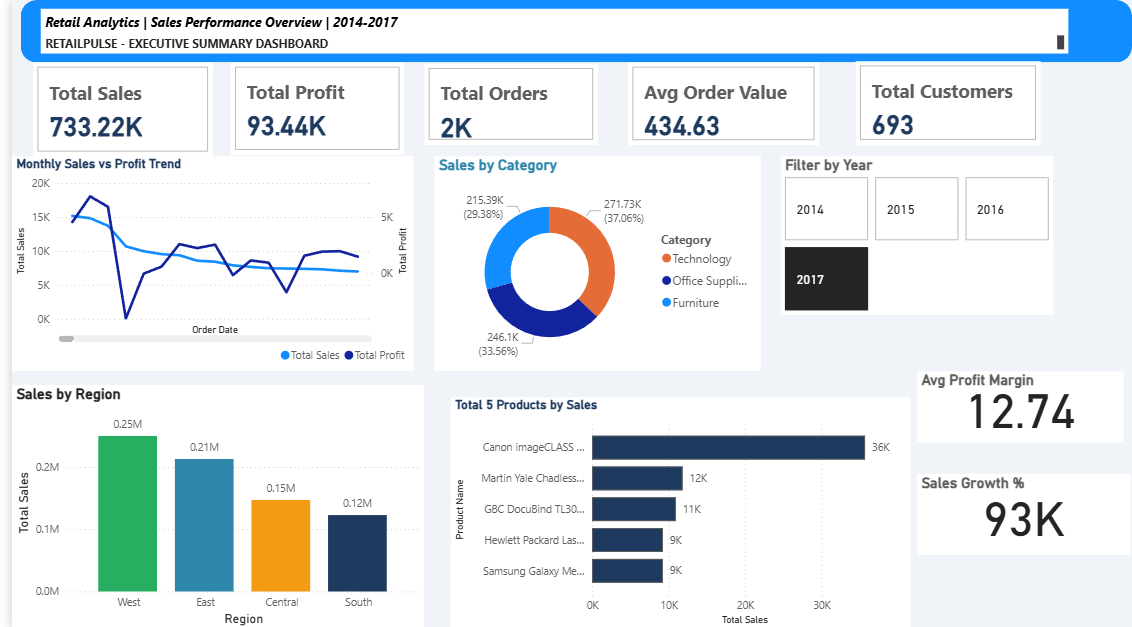

Layout of this report page (visuals, bound fields, positions):
{"tool":"powerbi","page":{"name":"Executive Summary","canvas":[1280,720],"ordinal":0},"visuals":[{"type":"shape","box":[10,0,1270,71.4],"z":0},{"type":"textbox","box":[32.9,10,1174.3,51.4],"z":1000},{"type":"cardVisual","fields":{"Data":["Sales Measures.Total Sales"]},"box":[24.3,71.4,205.7,107.1],"z":2000},{"type":"cardVisual","fields":{"Data":["Sales Measures.Total Profit"]},"box":[250,71.4,198.6,105.7],"z":3000},{"type":"cardVisual","fields":{"Data":["Sales Measures.Total Orders"]},"box":[471.4,72.9,198.6,92.9],"z":4000},{"type":"cardVisual","fields":{"Data":["Sales Measures.Total Customers"]},"box":[964.3,70,211.4,95.7],"z":5000},{"type":"cardVisual","fields":{"Data":["Sales Measures.Avg Order Value"]},"box":[704.3,71.4,218.6,94.3],"z":6000},{"type":"lineChart","title":"Monthly Sales vs Profit Trend","fields":{"Y":["Sales Measures.Total Sales"],"Y2":["Sales Measures.Total Profit"],"Category":["Sales Measures.Order Date"]},"box":[0,178.6,458.6,245.7],"z":7000},{"type":"donutChart","title":"Sales by Category ","fields":{"Category":["Sales Measures.Category"],"Y":["Sales Measures.Total Sales"]},"box":[482.9,178.6,372.9,245.7],"z":8000},{"type":"clusteredBarChart","title":"Total 5 Products by Sales","fields":{"Category":["Sales Measures.Product Name"],"Y":["Sales Measures.Total Sales"]},"box":[501.4,454.3,525.7,265.7],"z":9000},{"type":"clusteredColumnChart","title":"Sales by Region","fields":{"Category":["Sales Measures.Region"],"Y":["Sales Measures.Total Sales"]},"box":[0,440,471.4,280],"z":10000},{"type":"card","title":"Sales Growth %","fields":{"Values":["Sales Measures.Total Profit"]},"box":[1034.3,541.4,244.3,92.9],"z":11000},{"type":"card","title":"Avg Profit Margin","fields":{"Values":["Sales Measures.Avg Profit Margin"]},"box":[1034.3,424.3,235.7,81.4],"z":12000},{"type":"advancedSlicerVisual","title":"Filter by Year","fields":{"Values":["Sales Measures.Year"]},"box":[878.6,178.6,311.4,181.4],"z":13000}]}

Visuals, with their boxes in screenshot pixels (x1, y1, x2, y2), scaled from the page's 1280x720 canvas onto the 1132x627 screenshot:
shape: pyautogui.locateOnScreen(9, 0, 1131, 62)
textbox: pyautogui.locateOnScreen(29, 9, 1068, 53)
cardVisual - Sales Measures.Total Sales: pyautogui.locateOnScreen(21, 62, 203, 155)
cardVisual - Sales Measures.Total Profit: pyautogui.locateOnScreen(221, 62, 397, 154)
cardVisual - Sales Measures.Total Orders: pyautogui.locateOnScreen(417, 63, 593, 144)
cardVisual - Sales Measures.Total Customers: pyautogui.locateOnScreen(853, 61, 1040, 144)
cardVisual - Sales Measures.Avg Order Value: pyautogui.locateOnScreen(623, 62, 816, 144)
"Monthly Sales vs Profit Trend" lineChart: pyautogui.locateOnScreen(0, 156, 406, 369)
"Sales by Category " donutChart: pyautogui.locateOnScreen(427, 156, 757, 369)
"Total 5 Products by Sales" clusteredBarChart: pyautogui.locateOnScreen(443, 396, 908, 626)
"Sales by Region" clusteredColumnChart: pyautogui.locateOnScreen(0, 383, 417, 626)
"Sales Growth %" card: pyautogui.locateOnScreen(915, 471, 1131, 552)
"Avg Profit Margin" card: pyautogui.locateOnScreen(915, 369, 1123, 440)
"Filter by Year" advancedSlicerVisual: pyautogui.locateOnScreen(777, 156, 1052, 314)
